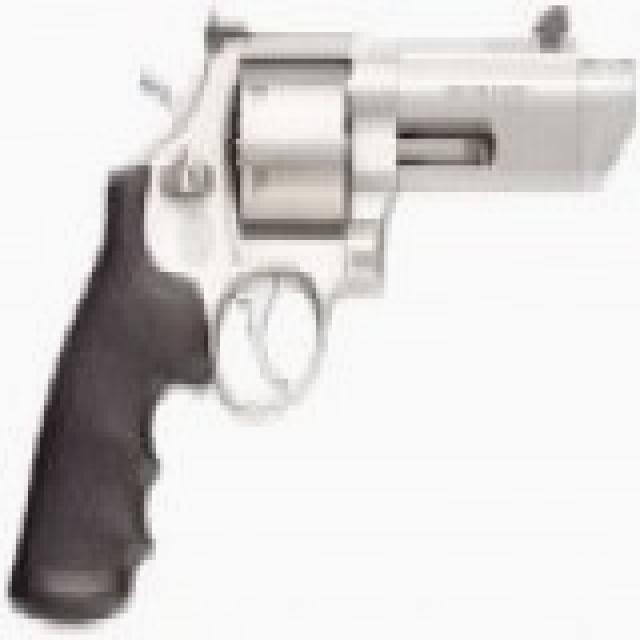pistol: (16, 0, 640, 624)
